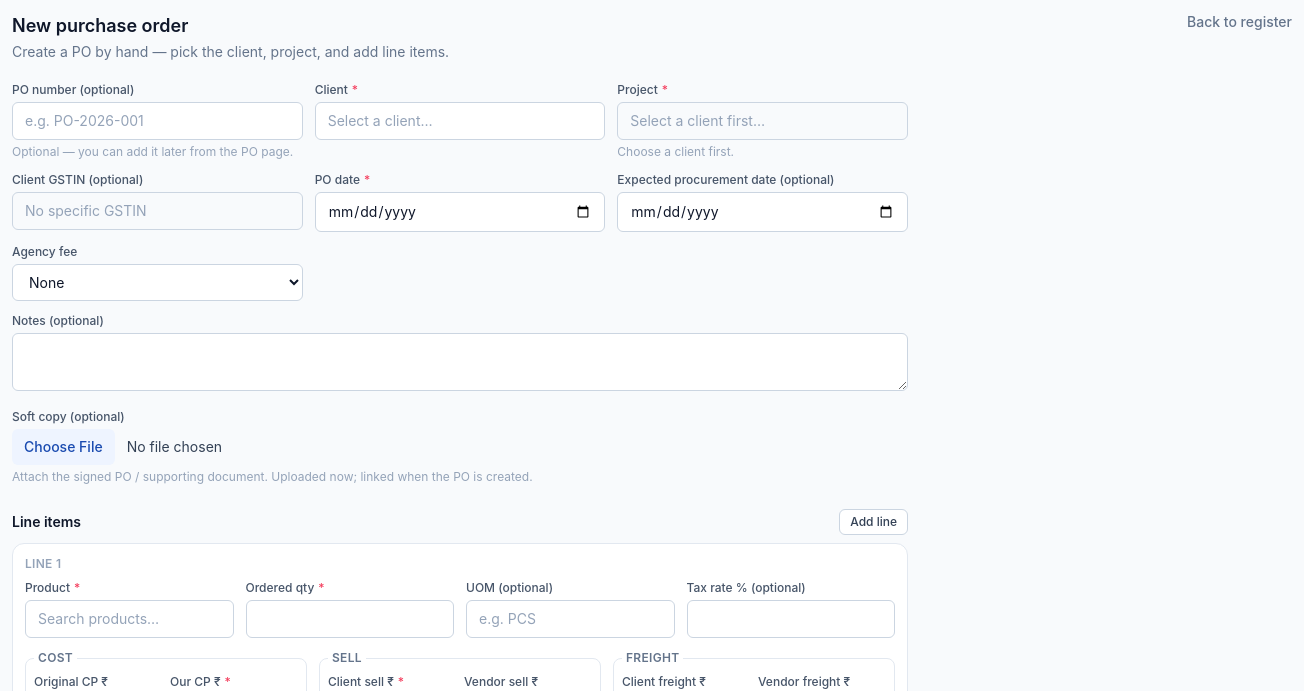
PO create form — projects fetch error (M2) › surfaces a load error (not a false "No active projects") when projects fail
The image size is (1304, 691).
Focus the dropdown labelled "Client *" at {"x": 460, "y": 121}, box [315, 102, 605, 140]
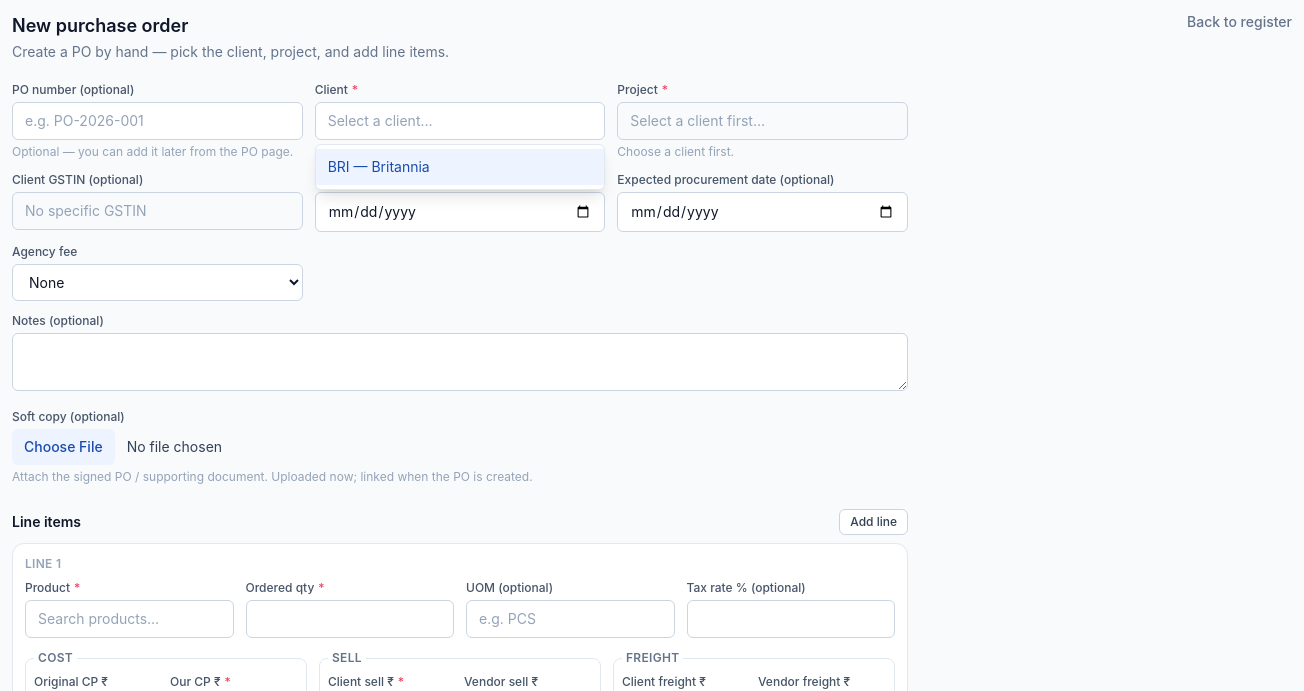
Press the mouse on the option "BRI — Britannia" at {"x": 379, "y": 166}, box [316, 149, 604, 185]
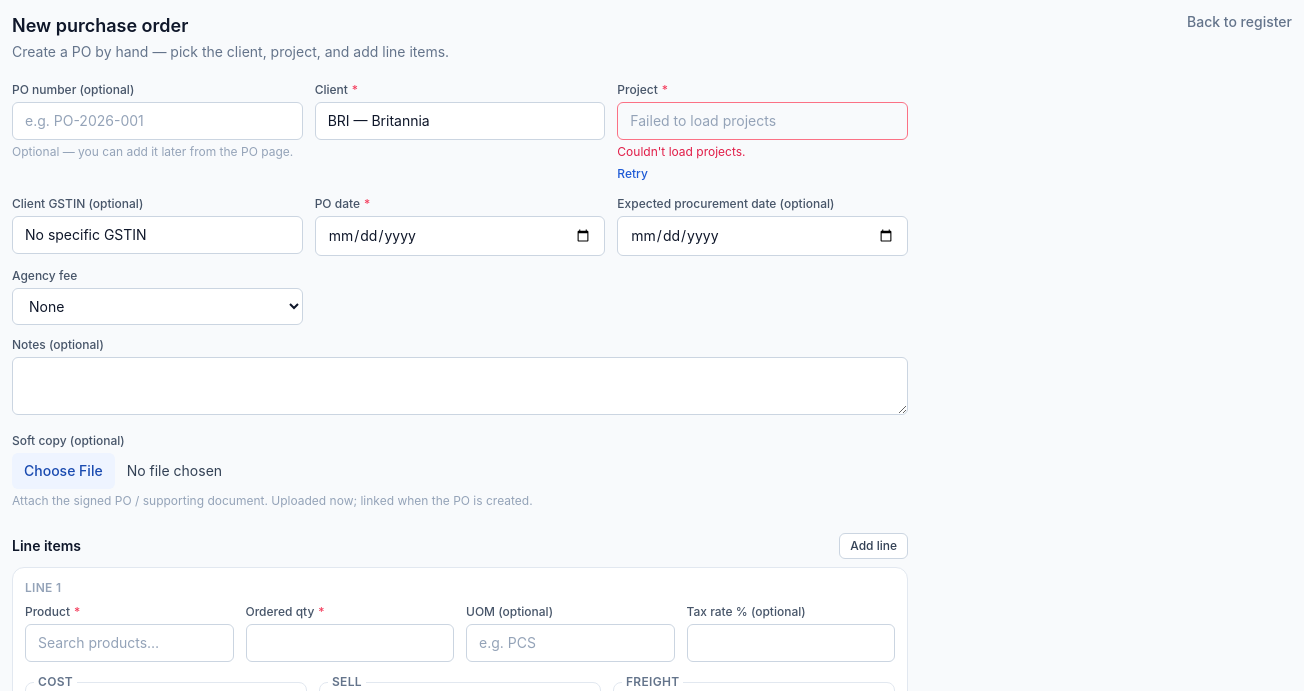
Check: the text "Couldn't load projects." is shown, box [617, 144, 746, 159]
Check: the button "Retry" is shown, box [617, 166, 648, 182]
